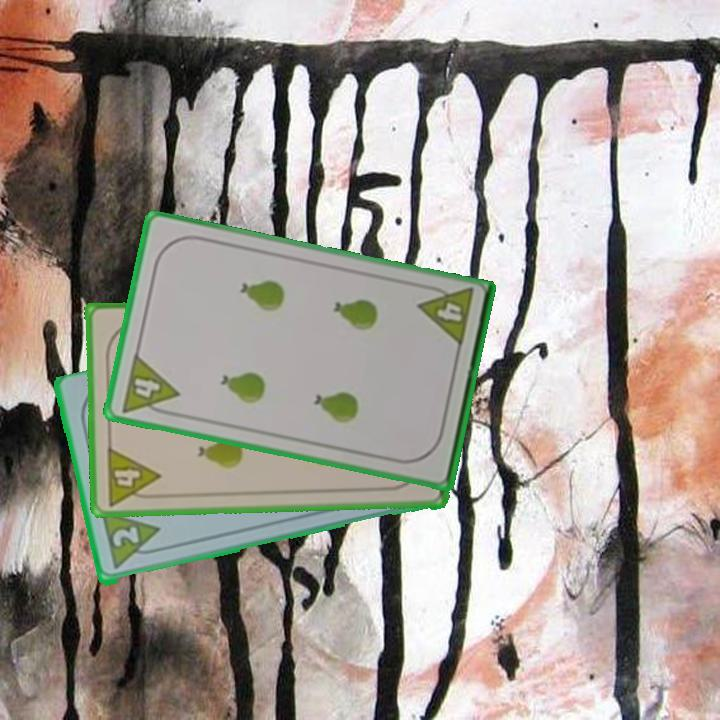2p: (108, 523, 142, 551)
4p: (117, 350, 182, 420), (415, 281, 477, 351), (102, 443, 163, 508)
